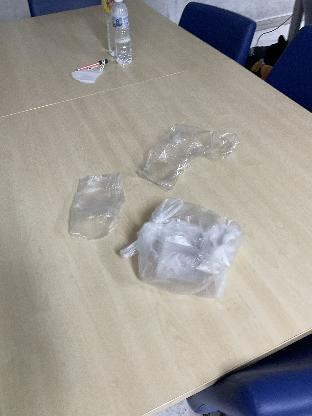Plastic Bag: (124, 195, 238, 314), (131, 110, 242, 192), (57, 171, 135, 241)
